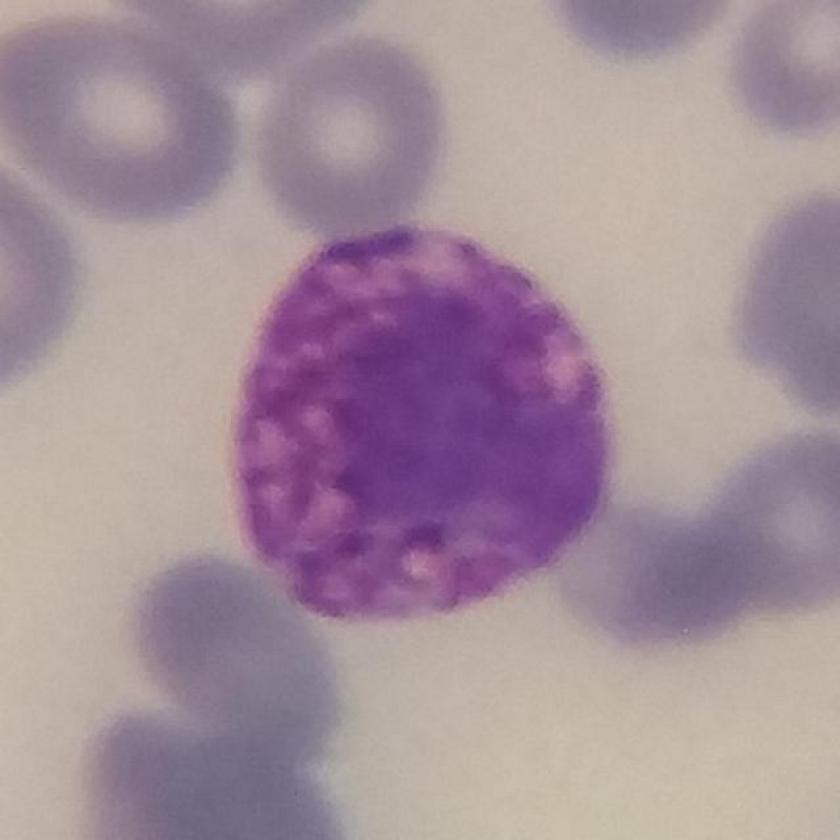basophil: (227, 216, 623, 636)
